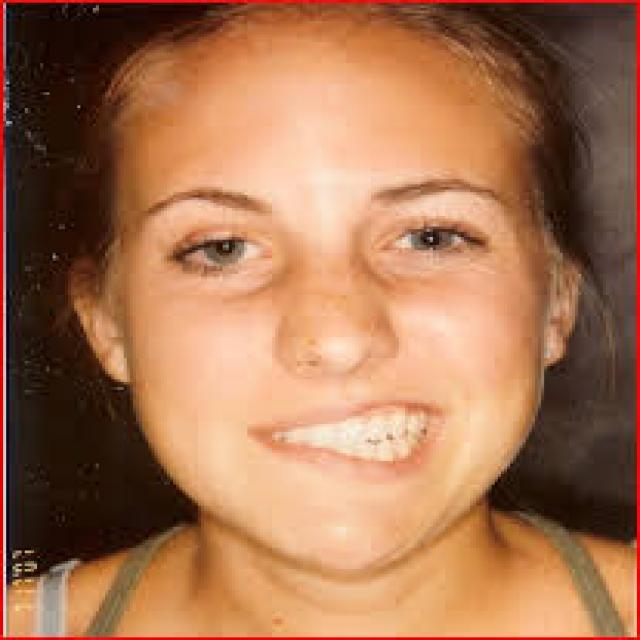stroke_face: (127, 37, 566, 559)
